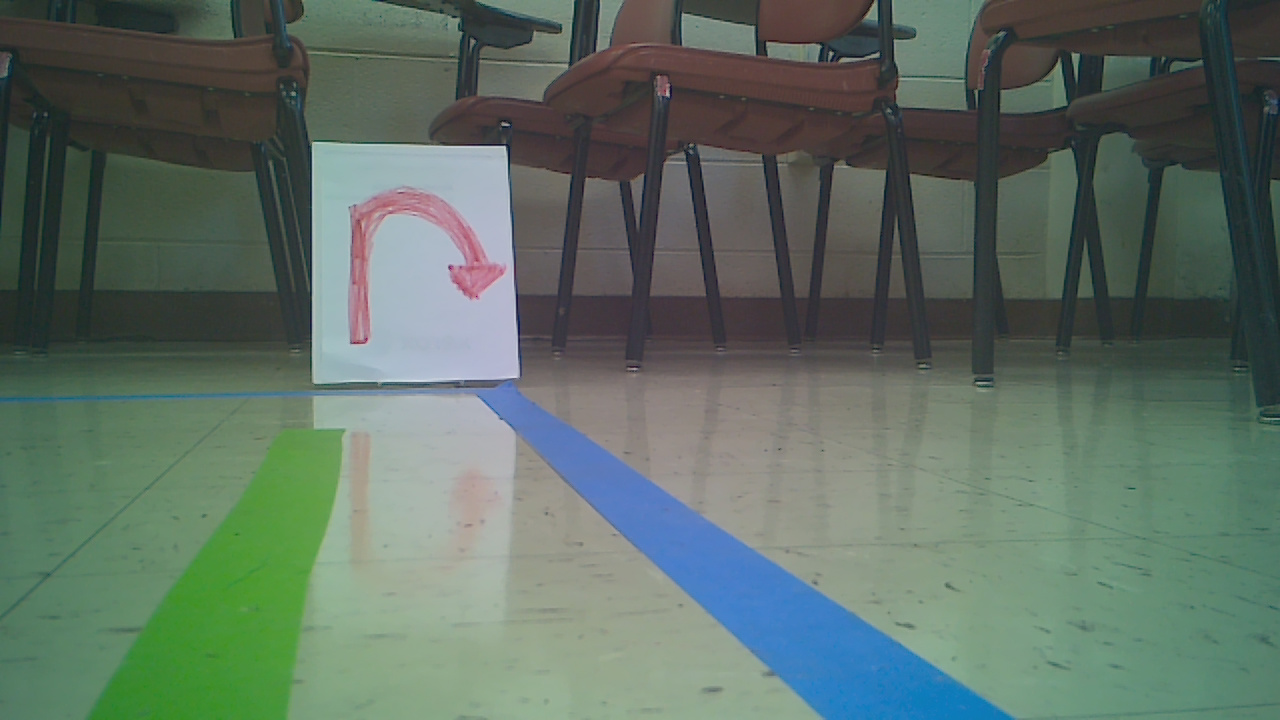greenline: (94, 431, 347, 719)
uturn: (342, 179, 503, 341)
